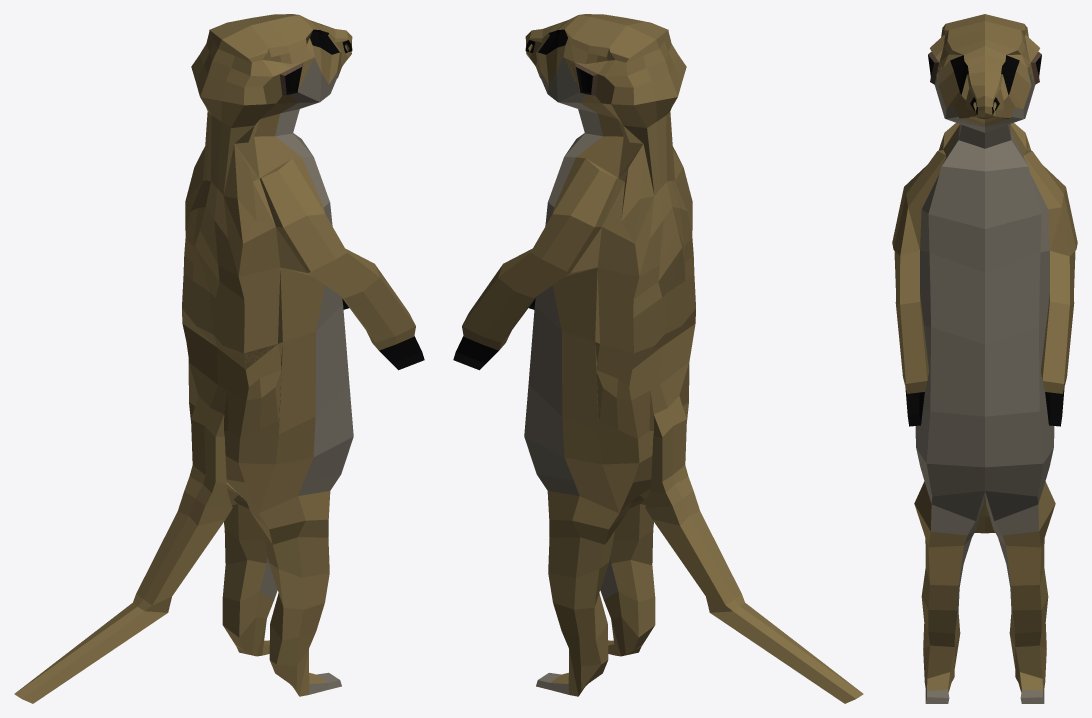
The model's file is MeerkatColourzforward.fbx.
3 views of the same model, side by side, from view 1: azimuth 30°, elevation 25°; view 2: azimuth 150°, elevation 25°; view 3: azimuth 270°, elevation 25° (orthographic).
Visible parts, largest first — view 1: Cube.001; view 2: Cube.001; view 3: Cube.001.
Part boxes in pixels (x1,y1,x2,y2): Cube.001: (14,14,424,703); Cube.001: (453,14,863,703); Cube.001: (892,14,1077,703).
Size of the model in its own units: 33.98 by 56.53 by 14.55.
